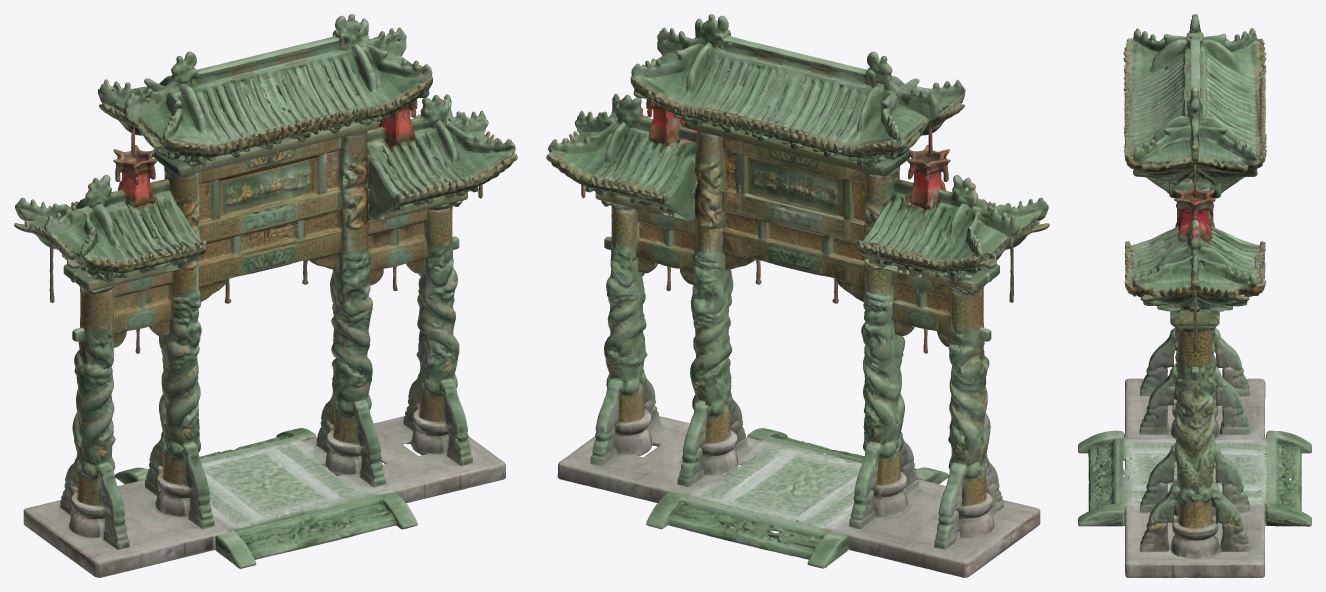
The model's file is nantian-gate.glb.
3 renders of one model, left to right at view 1: azimuth 30°, elevation 25°; view 2: azimuth 150°, elevation 25°; view 3: azimuth 270°, elevation 25°, orthographic. The views are drawn at different scales.
Parts seen in each view (by area): view 1: geometry_0; view 2: geometry_0; view 3: geometry_0.
Boxes of the visible parts, bbox=[...] form: geometry_0: bbox=[14, 14, 517, 577]; geometry_0: bbox=[546, 14, 1049, 577]; geometry_0: bbox=[1078, 14, 1311, 577].
Size of the model in its own units: 8 by 7.99 by 3.89.
Materials: 1 (1 with a texture image).
